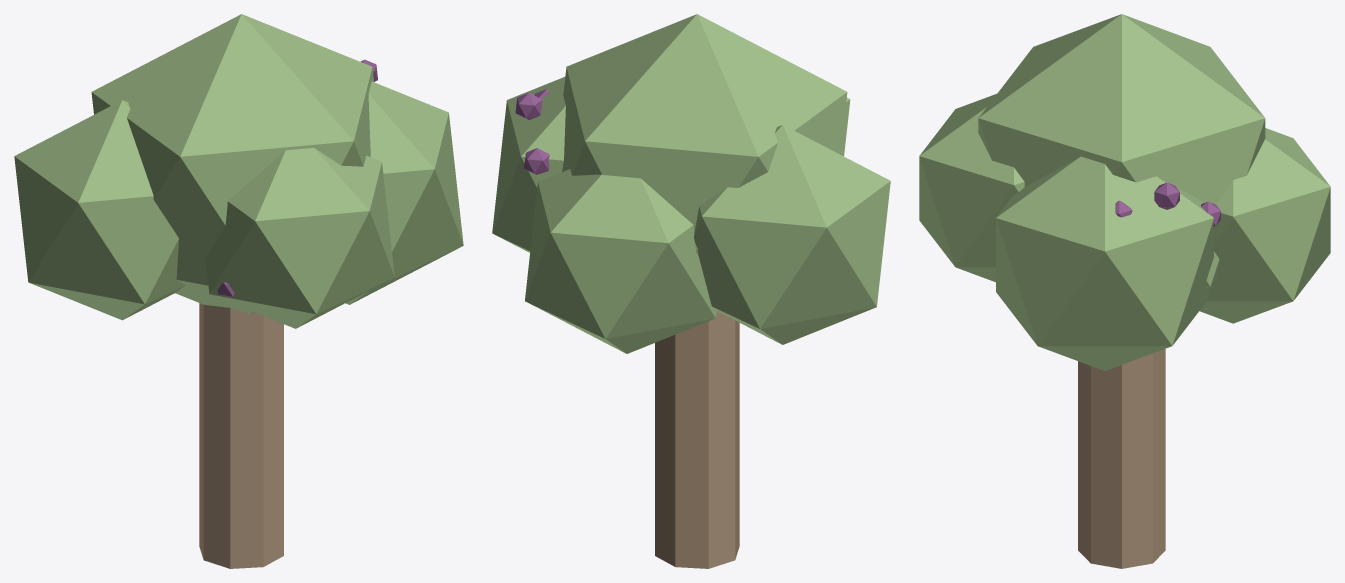
The model's file is mulberry_tree.glb.
3 views of the same model, side by side, from view 1: azimuth 30°, elevation 25°; view 2: azimuth 150°, elevation 25°; view 3: azimuth 270°, elevation 25° (orthographic).
Parts seen in each view (by area): view 1: mulberry_tree; view 2: mulberry_tree; view 3: mulberry_tree.
Part boxes in pixels (x1=…): mulberry_tree: x1=14, y1=14, x2=463, y2=568; mulberry_tree: x1=492, y1=14, x2=890, y2=568; mulberry_tree: x1=919, y1=14, x2=1330, y2=568.
Bounding box in the file's own units: 1.35 × 1.75 × 1.22.
